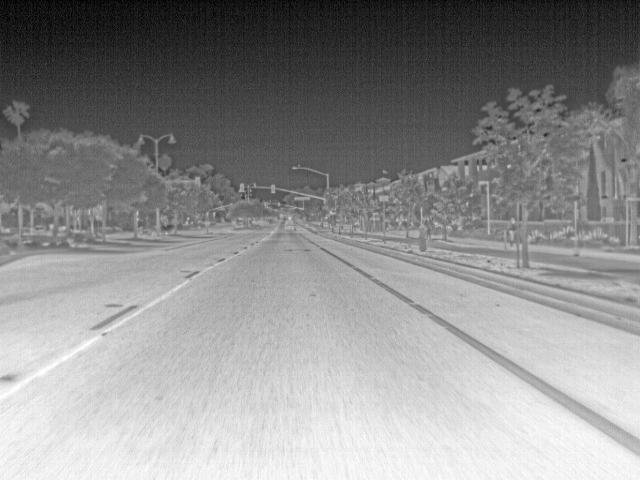car: (281, 218, 295, 232), (159, 223, 175, 235)
person: (506, 216, 516, 246)
